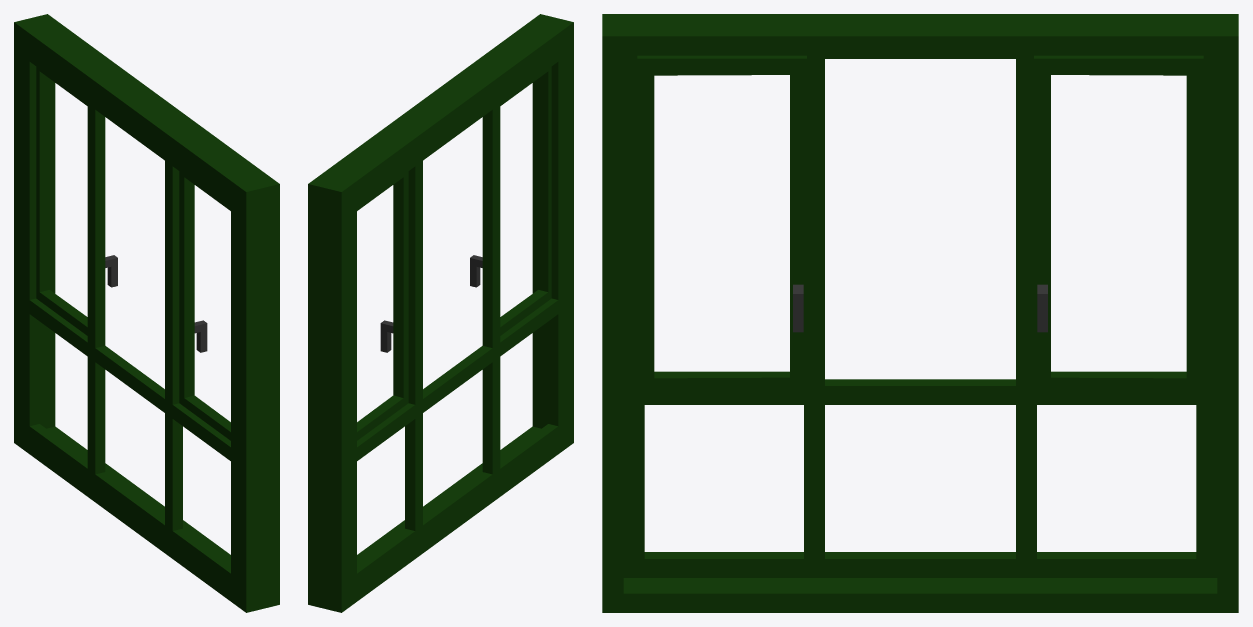
File: finestra.fbx
3 views of the same model, side by side, from view 1: azimuth 30°, elevation 25°; view 2: azimuth 150°, elevation 25°; view 3: azimuth 270°, elevation 25° (orthographic). The views are drawn at different scales.
Parts seen in each view (by area): view 1: StrutturaFInestra, FinestraSx, FinestraDx, ManigliaSx; view 2: StrutturaFInestra, FinestraDx, FinestraSx, ManigliaDx; view 3: StrutturaFInestra, FinestraSx, FinestraDx.
Boxes of the visible parts, bbox=[...] form: StrutturaFInestra: bbox=[14, 14, 279, 612]; FinestraSx: bbox=[179, 171, 230, 440]; FinestraDx: bbox=[36, 67, 87, 335]; ManigliaSx: bbox=[194, 320, 207, 352]; StrutturaFInestra: bbox=[308, 14, 573, 612]; FinestraDx: bbox=[357, 171, 408, 440]; FinestraSx: bbox=[500, 67, 551, 335]; ManigliaDx: bbox=[380, 320, 393, 352]; StrutturaFInestra: bbox=[602, 14, 1238, 612]; FinestraSx: bbox=[637, 55, 806, 394]; FinestraDx: bbox=[1034, 55, 1203, 394].
Size of the model in its own units: 50 by 600 by 600.
